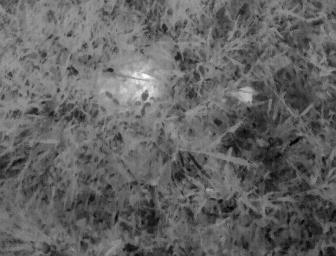landmine: (93, 52, 179, 116)
